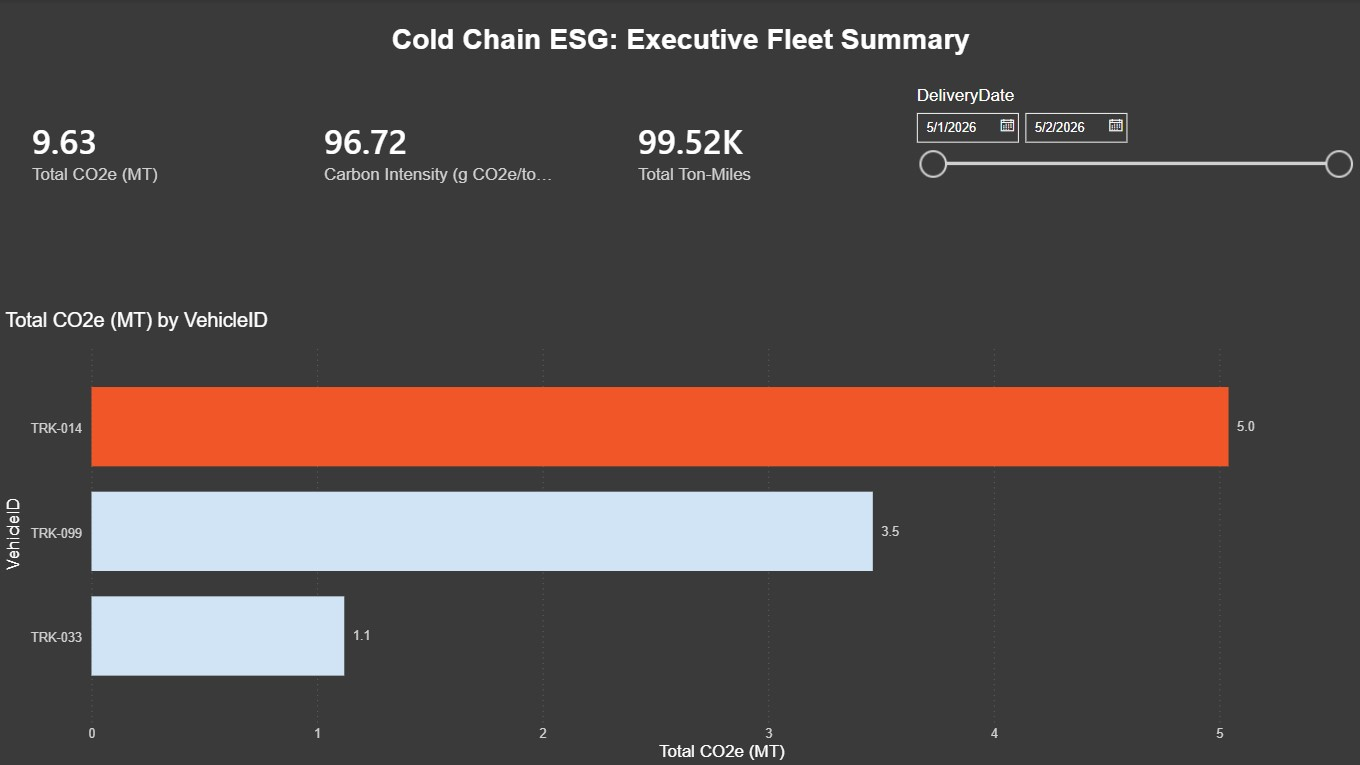

The dashboard page shown, as its layout file describes it:
{"tool":"powerbi","page":{"name":"Page 1","canvas":[1280,720],"ordinal":0},"visuals":[{"type":"cardVisual","fields":{"Data":["v_Fact_Fleet_Emissions.Pro Carbon Intensity (g CO2e/ton-mile)"]},"box":[274.9,0,279.1,280.1],"z":0},{"type":"cardVisual","fields":{"Data":["v_Fact_Fleet_Emissions.Total CO2e (MT)"]},"box":[0,0,279.1,280.1],"z":1000},{"type":"cardVisual","fields":{"Data":["v_Fact_Fleet_Emissions.Total Ton-Miles"]},"box":[569.7,0,279.1,280.1],"z":2000},{"type":"barChart","fields":{"Y":["v_Fact_Fleet_Emissions.Total CO2e (MT)"],"Category":["v_Fact_Fleet_Emissions.VehicleID"]},"box":[0,290.6,1280,429.1],"z":3000},{"type":"textbox","box":[0,16.8,1280,59.8],"z":4000},{"type":"slicer","fields":{"Values":["v_Fact_Fleet_Emissions.DeliveryDate"]},"box":[848.8,76.6,431.2,203.5],"z":5000}]}

Visuals, with their boxes in screenshot pixels (x1, y1, x2, y2), scaled from the page's 1280x720 canvas onto the 1360x765 screenshot:
cardVisual - v_Fact_Fleet_Emissions.Pro Carbon Intensity (g CO2e/ton-mile): 292 0 589 298
cardVisual - v_Fact_Fleet_Emissions.Total CO2e (MT): 0 0 297 298
cardVisual - v_Fact_Fleet_Emissions.Total Ton-Miles: 605 0 902 298
barChart - v_Fact_Fleet_Emissions.Total CO2e (MT) x v_Fact_Fleet_Emissions.VehicleID: 0 309 1359 764
textbox: 0 18 1359 81
slicer - v_Fact_Fleet_Emissions.DeliveryDate: 902 81 1359 298
